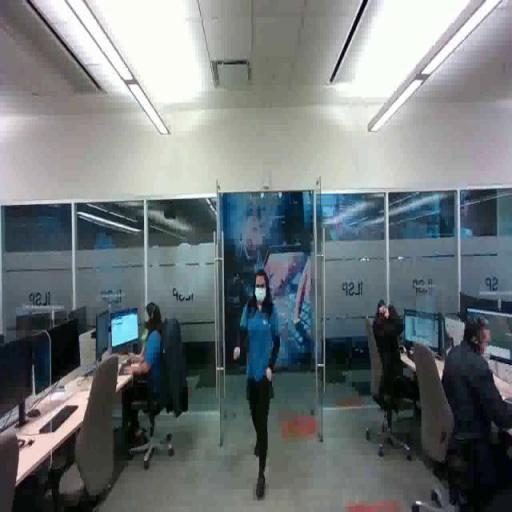person: (434, 319, 512, 512), (111, 296, 196, 471), (232, 263, 285, 501), (374, 302, 437, 449)
